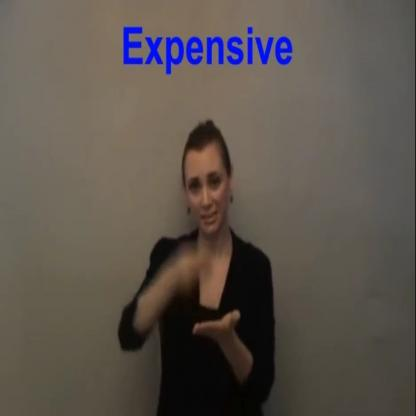Expensive: (156, 233, 246, 356)
